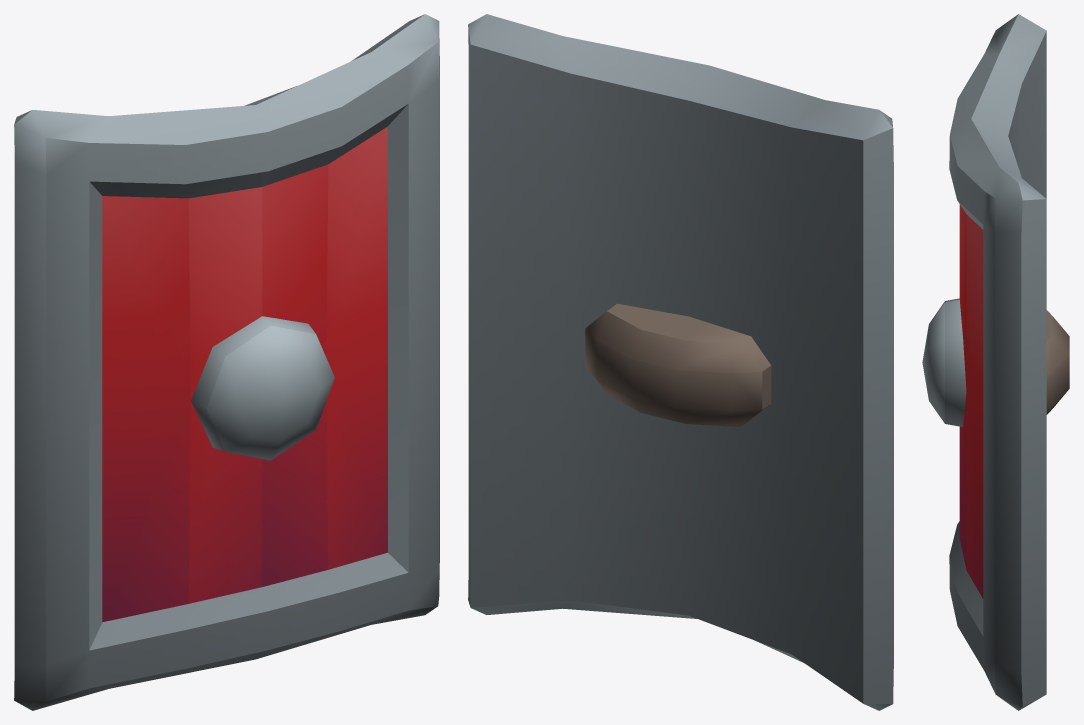
File: shield_square_color.glb
3 renders of one model, left to right at view 1: azimuth 30°, elevation 25°; view 2: azimuth 150°, elevation 25°; view 3: azimuth 270°, elevation 25°, orthographic. The views are drawn at different scales.
Size of the model in its own units: 0.8826 by 1.19 by 0.3011.
1 material, 1 textured.
